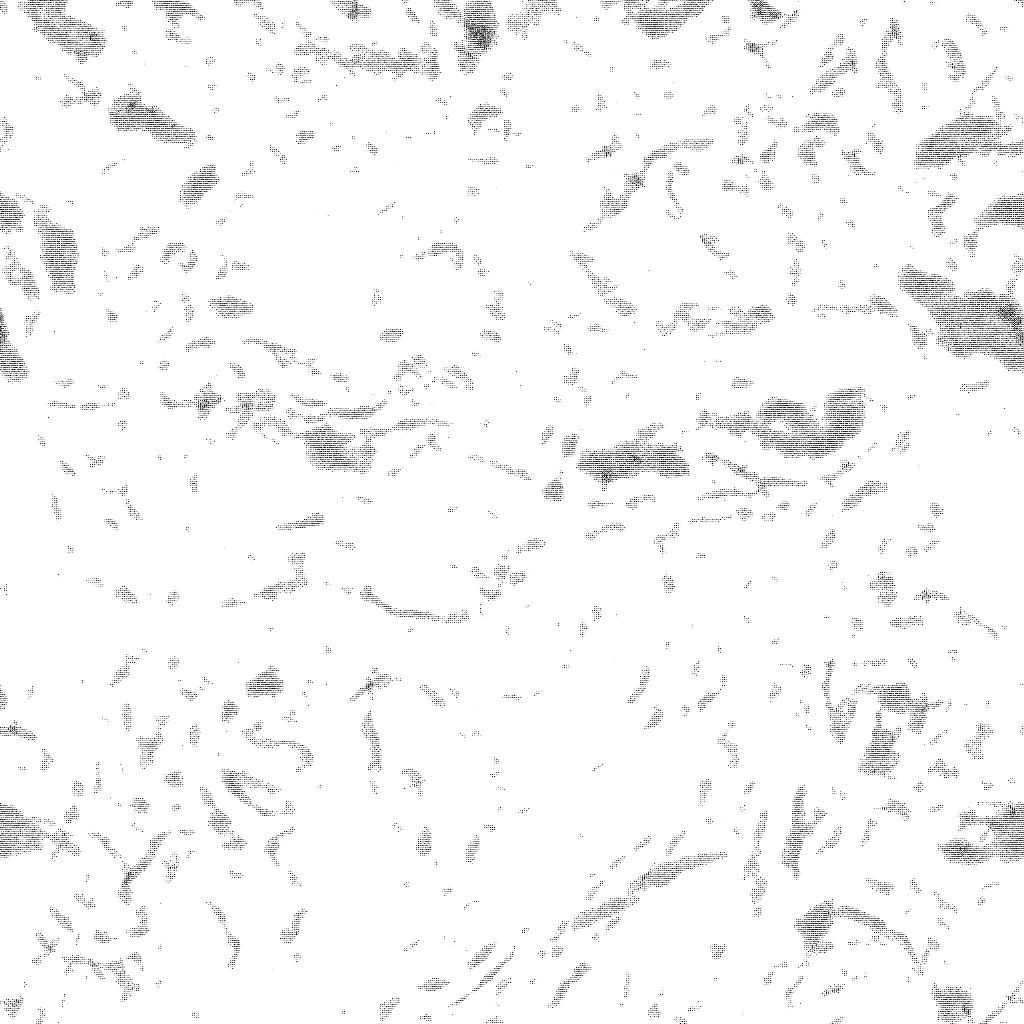axone: (751, 385, 883, 459), (568, 429, 699, 489), (102, 79, 208, 153), (31, 192, 87, 297), (296, 420, 383, 481), (450, 1, 507, 66), (168, 156, 230, 211)
